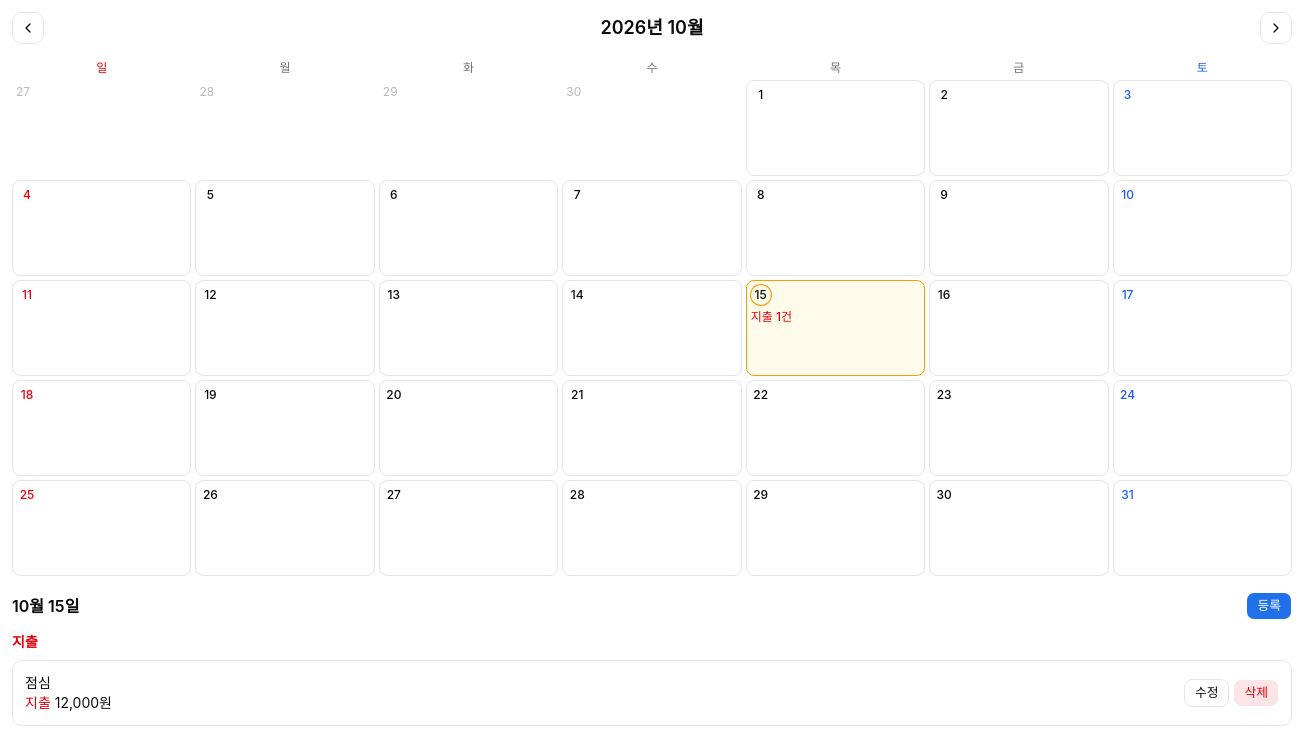
Test case: Ledger › selects the 1st on other months and today on the current month
The width and height of the screenshot is (1304, 732).
Click the button named "10월 20일, 기록 없음" at [468, 428], box 379,380 -> 558,476
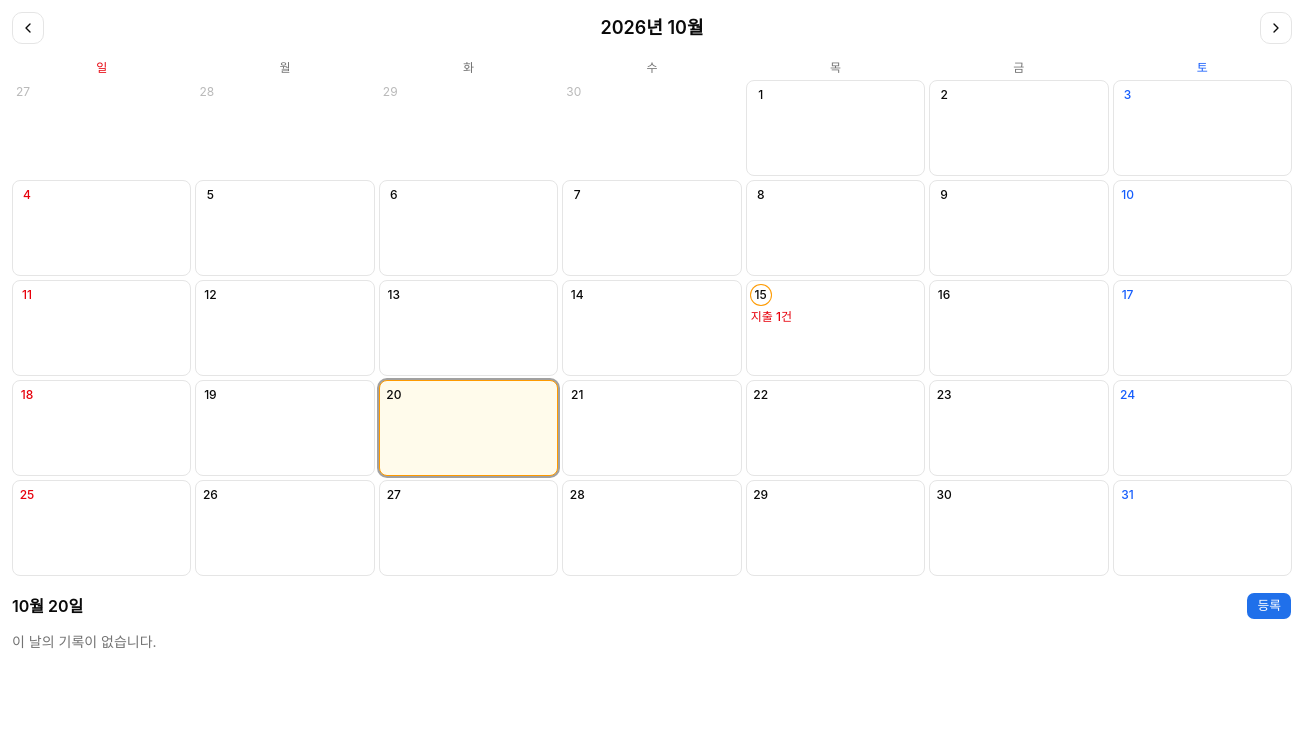
Click the button named "다음 달" at [1276, 28], box 1260,12 -> 1292,44
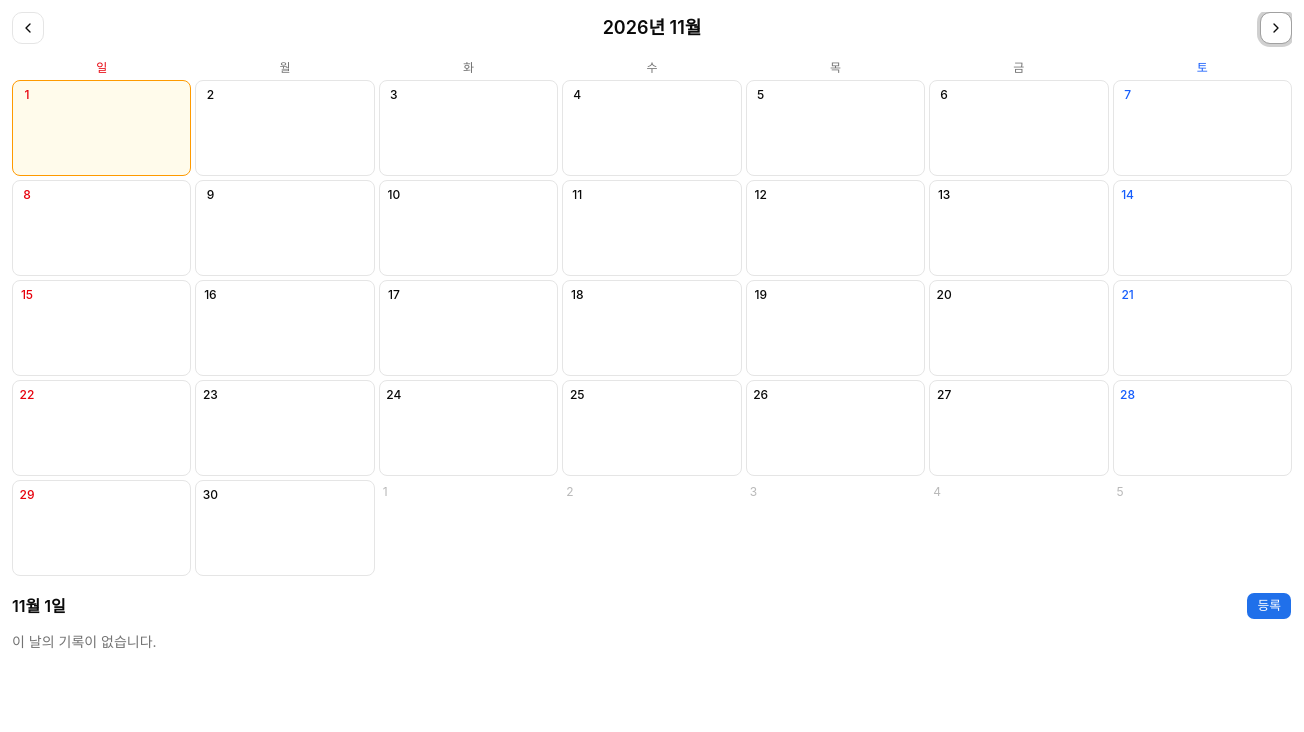
Expected: the element "11월 1일" is shown, 12,592 -> 1292,652
Click the button named "이전 달" at [28, 28], box 12,12 -> 44,44
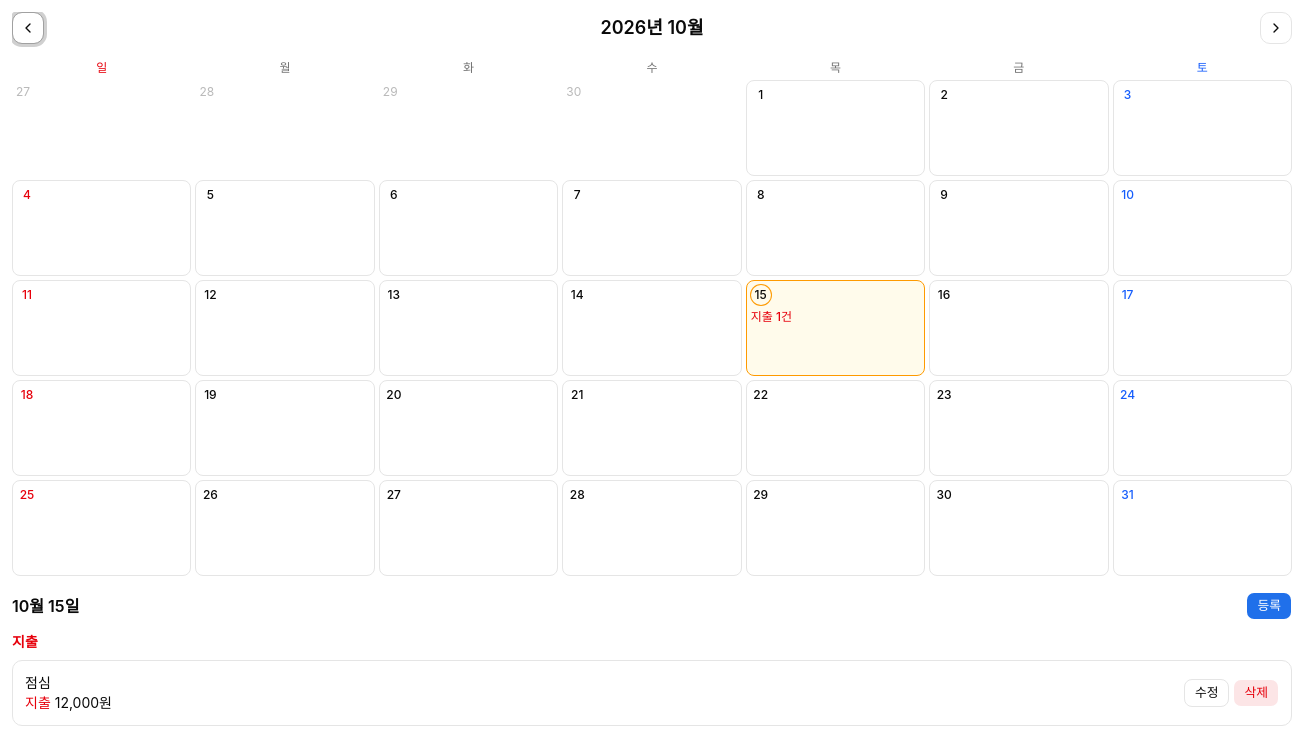
Click the button named "이전 달" at [28, 28], box 12,12 -> 44,44
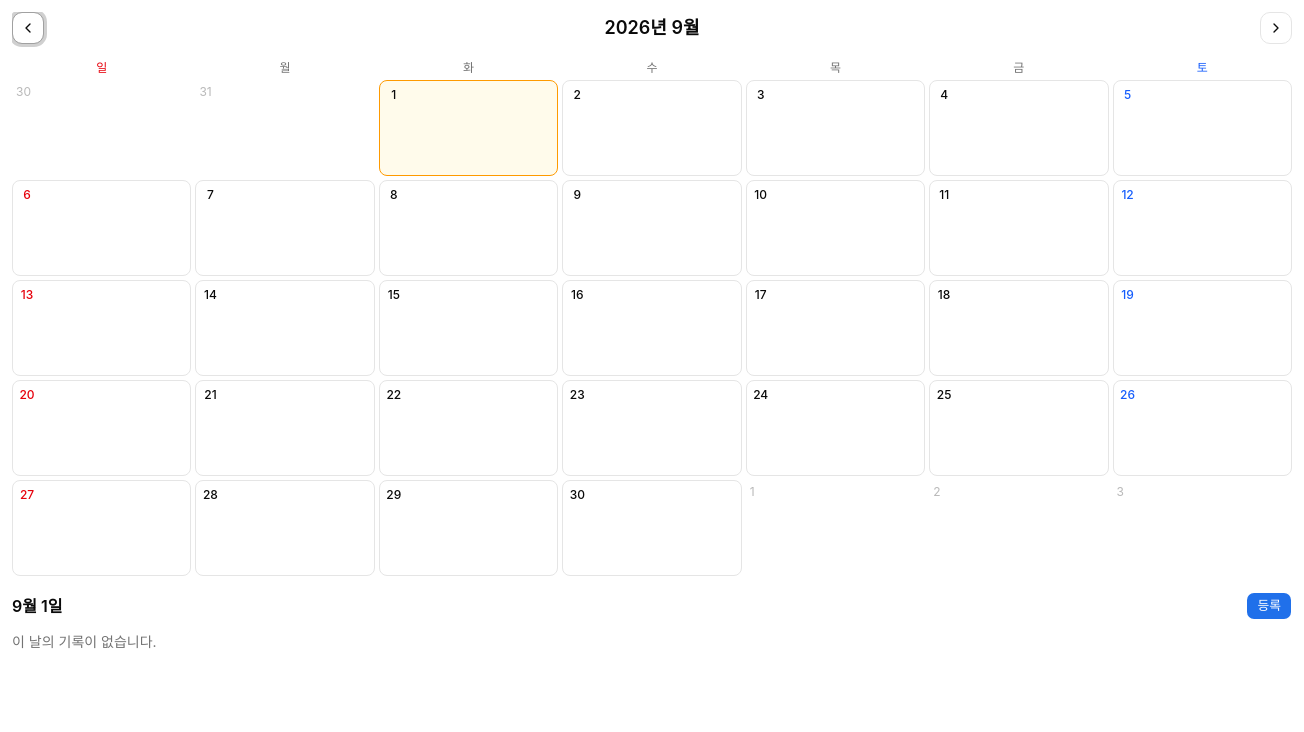
Expected: the element "9월 1일" is shown, 12,592 -> 1292,652
Click the button named "다음 달" at [1276, 28], box 1260,12 -> 1292,44
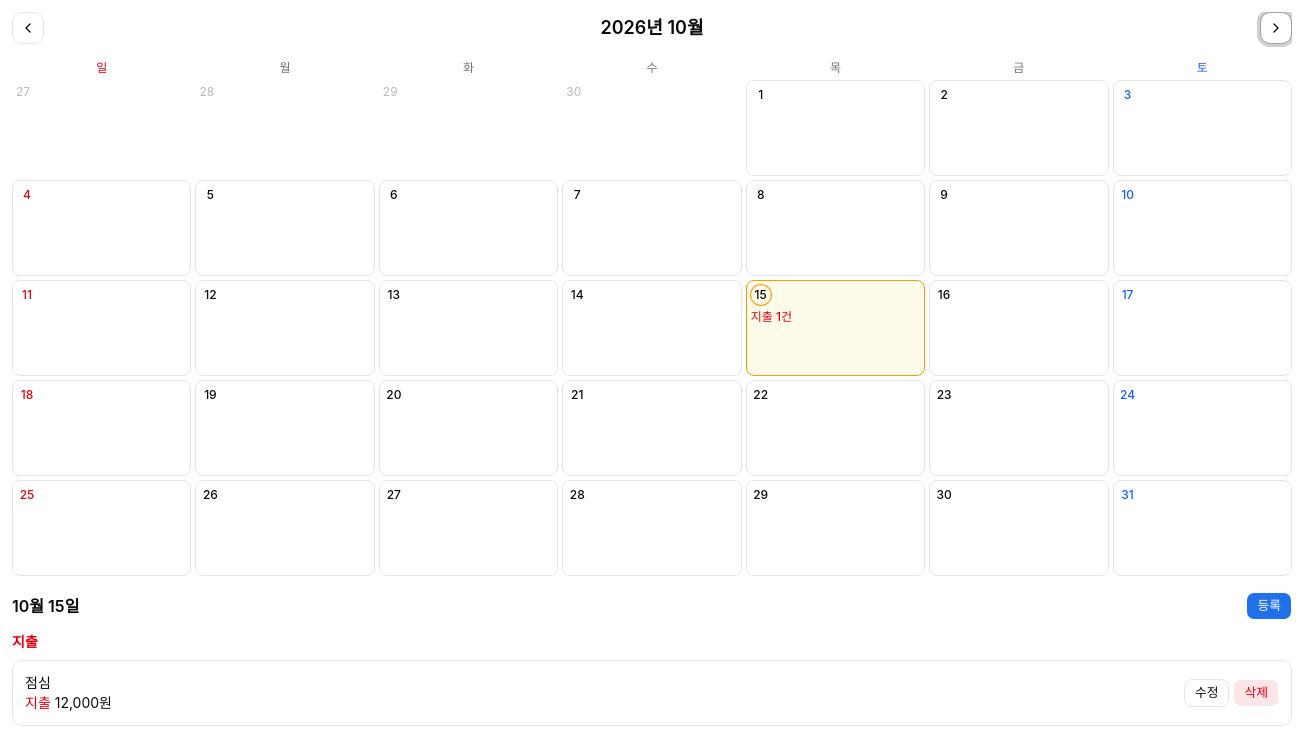
Expected: the text "점심" is shown, 25,674 -> 51,691
